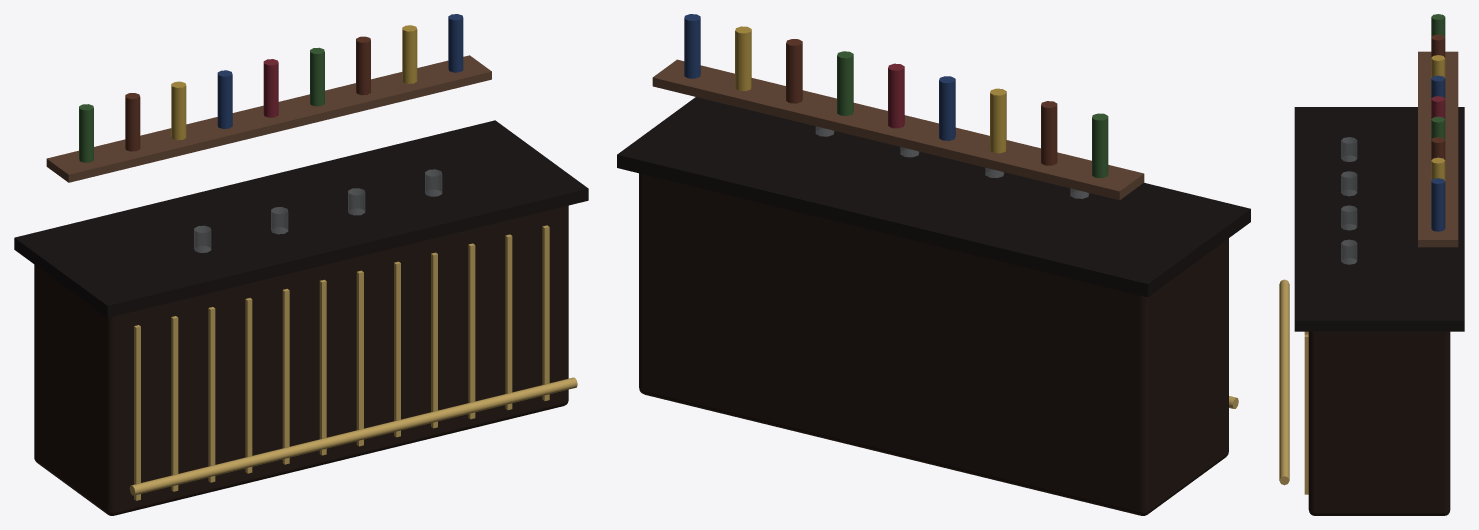
File: balcao-bar.glb
3 views of the same model, side by side, from view 1: azimuth 30°, elevation 25°; view 2: azimuth 150°, elevation 25°; view 3: azimuth 270°, elevation 25° (orthographic). The views are drawn at different scales.
Parts seen in each view (by area): view 1: balcao-bar_malha; view 2: balcao-bar_malha; view 3: balcao-bar_malha.
Boxes of the visible parts, bbox=[...] form: balcao-bar_malha: bbox=[14, 14, 588, 515]; balcao-bar_malha: bbox=[617, 14, 1250, 515]; balcao-bar_malha: bbox=[1279, 14, 1464, 515].
Size of the model in its own units: 2.5 by 1.73 by 0.915.
